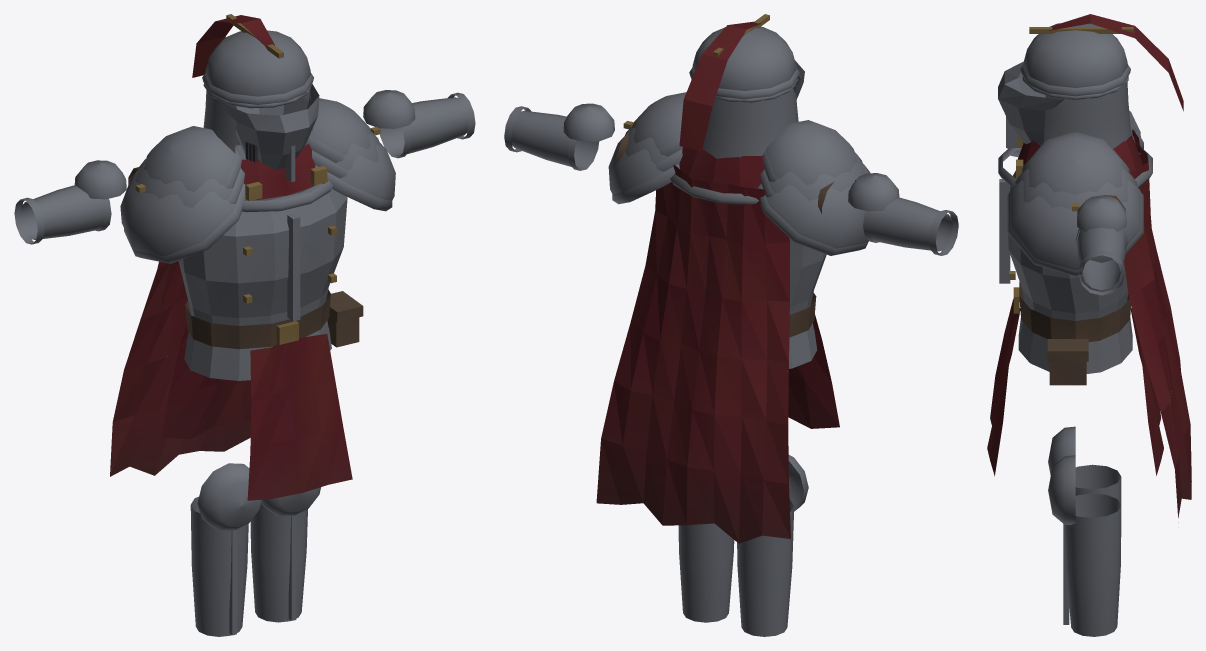
File: player.glb
3 views of the same model, side by side, from view 1: azimuth 30°, elevation 25°; view 2: azimuth 150°, elevation 25°; view 3: azimuth 270°, elevation 25° (orthographic).
Visible parts, largest first — view 1: Knight_Cuirass, Knight_Tabard, Knight_Helm, Knight_Pauldron_R, Knight_Greave_R, Knight_Cape_3, Knight_Greave_L, Knight_Pauldron_L, Knight_Vambrace_R, Knight_Vambrace_L, Knight_Cape_2, Knight_Cape_1; view 2: Knight_Cape_3, Knight_Cape_2, Knight_Cape_1, Knight_Helm, Knight_Pauldron_R, Knight_Greave_R, Knight_Pauldron_L, Knight_Vambrace_R, Knight_Vambrace_L, Knight_Greave_L, Knight_Cuirass, Knight_Tabard; view 3: Knight_Helm, Knight_Cuirass, Knight_Pauldron_L, Knight_Greave_L, Knight_Vambrace_L, Knight_Cape_2, Knight_Cape_1, Knight_Tabard, Knight_Cape_3, Knight_Greave_R.
Part boxes in pixels (x1,y1,x2,y2): Knight_Cuirass: (178,135,363,380); Knight_Tabard: (161,323,352,500); Knight_Helm: (192,14,319,182); Knight_Pauldron_R: (120,126,246,263); Knight_Greave_R: (190,463,262,636); Knight_Cape_3: (110,350,250,476); Knight_Greave_L: (250,487,320,622); Knight_Pauldron_L: (304,98,395,211); Knight_Vambrace_R: (14,160,126,244); Knight_Vambrace_L: (363,90,475,158); Knight_Cape_2: (124,261,187,369); Knight_Cape_1: (157,143,327,269); Knight_Cape_3: (596,381,790,543); Knight_Cape_2: (614,266,789,425); Knight_Cape_1: (645,147,789,301); Knight_Helm: (679,14,804,158); Knight_Pauldron_R: (757,120,870,255); Knight_Greave_R: (737,455,808,636); Knight_Pauldron_L: (608,92,686,204); Knight_Vambrace_R: (848,173,958,255); Knight_Vambrace_L: (504,103,614,170); Knight_Greave_L: (678,523,734,622); Knight_Cuirass: (670,173,826,368); Knight_Tabard: (788,315,839,428); Knight_Helm: (998,14,1183,148); Knight_Cuirass: (998,141,1152,385); Knight_Pauldron_L: (1007,132,1143,276); Knight_Greave_L: (1048,455,1121,636); Knight_Vambrace_L: (1075,195,1127,295); Knight_Cape_2: (1129,253,1180,412); Knight_Cape_1: (1016,130,1157,296); Knight_Tabard: (987,299,1163,476); Knight_Cape_3: (1161,364,1191,517); Knight_Greave_R: (1048,426,1121,504).
Bounding box in the file's own units: 1.34 × 1.76 × 0.5495.
